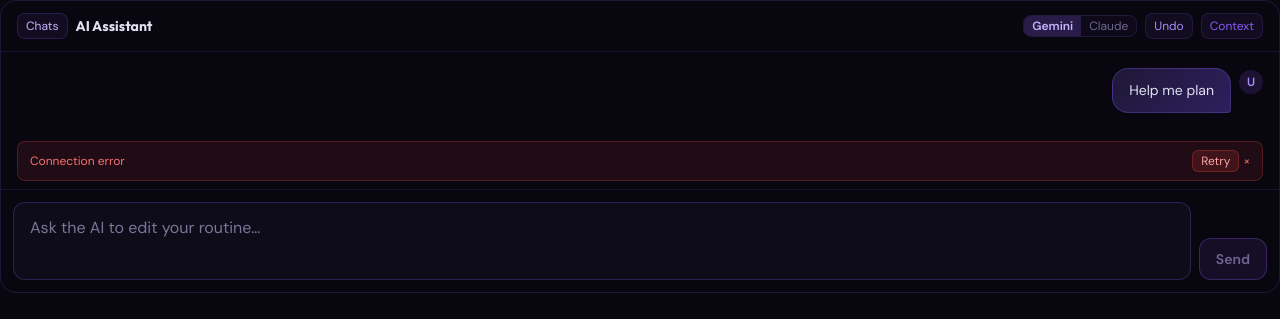
Test: ChatPanel › handleRetry clears the error state before resending
expect the message "Connection error Retry ×" is shown: met, box [17,141,1263,181]
What coordinates should you click on to do the following:
click the button with aria-label "retry last message"
I would click on:
 (1216, 161)
Its box is [1192,150,1239,172].
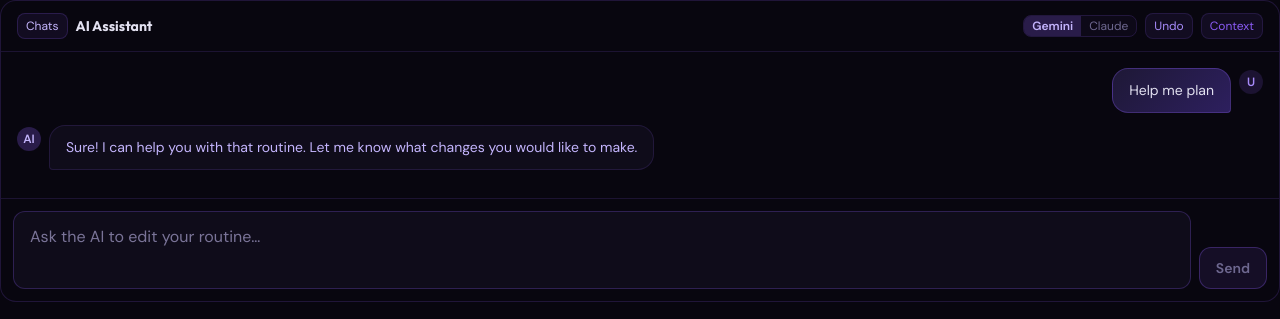
expect the message "Connection error Retry ×" is gone: met
